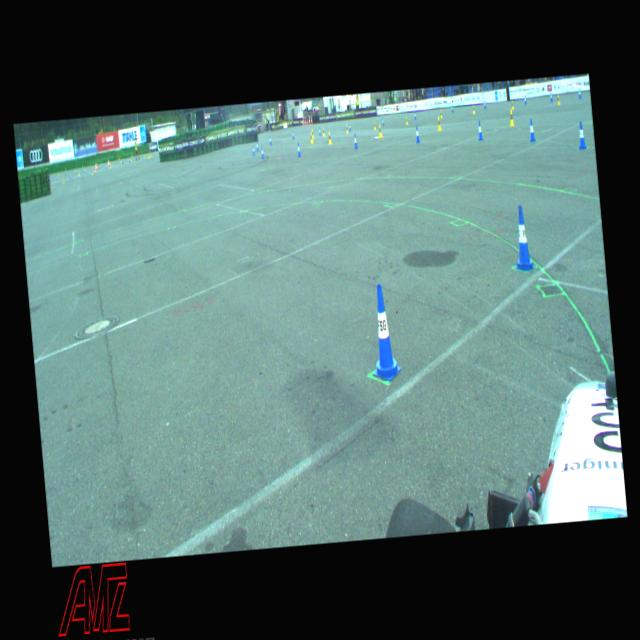blue_cone: (366, 282, 401, 381), (511, 204, 533, 271), (576, 122, 586, 148), (528, 119, 536, 142), (414, 126, 420, 142), (352, 133, 358, 149), (477, 120, 482, 138), (296, 142, 300, 156), (260, 147, 264, 159), (251, 144, 255, 155), (577, 88, 581, 99), (522, 95, 526, 105), (549, 92, 553, 100), (268, 136, 272, 144), (348, 123, 352, 131), (483, 100, 486, 109), (318, 128, 321, 136), (291, 130, 294, 138), (451, 105, 454, 113), (256, 142, 258, 152), (382, 118, 384, 126), (414, 112, 416, 119)
yellow_cone: (508, 108, 514, 126), (436, 116, 442, 130), (377, 124, 382, 138), (328, 131, 332, 144), (556, 94, 560, 105), (310, 128, 314, 138), (439, 109, 443, 118), (471, 105, 475, 114), (322, 127, 325, 137), (511, 99, 514, 109), (345, 125, 348, 134), (405, 116, 408, 125), (373, 121, 376, 130), (310, 132, 312, 142)
